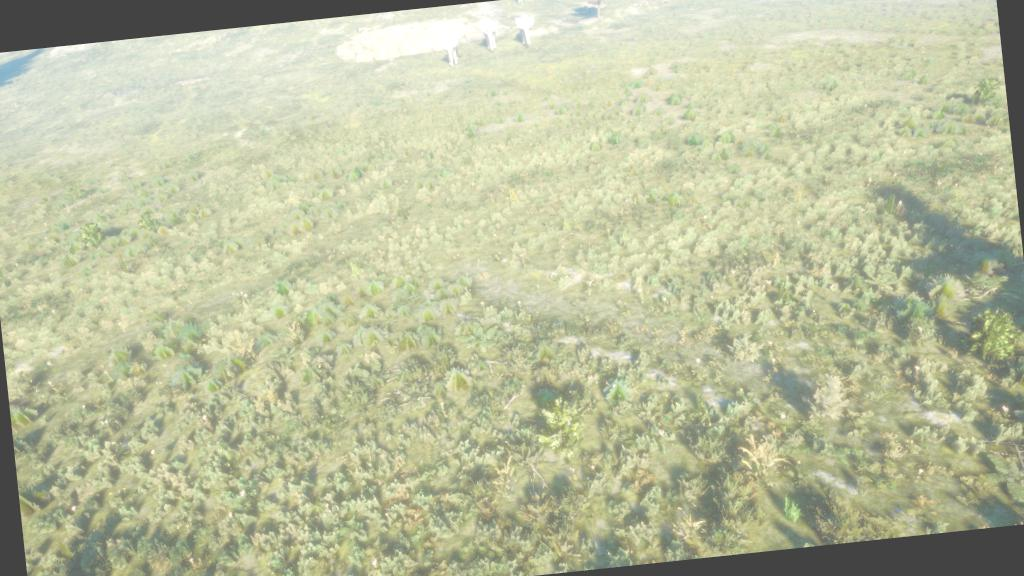elephant: (472, 12, 510, 55), (508, 6, 542, 54), (438, 25, 472, 70)
